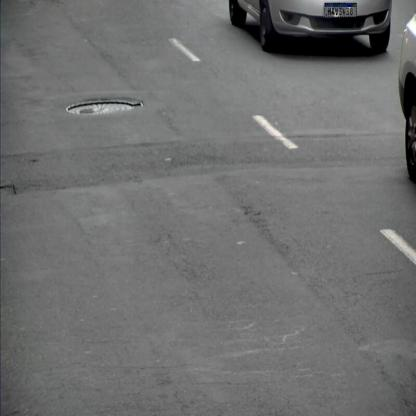PlacaM: (324, 3, 356, 17)
